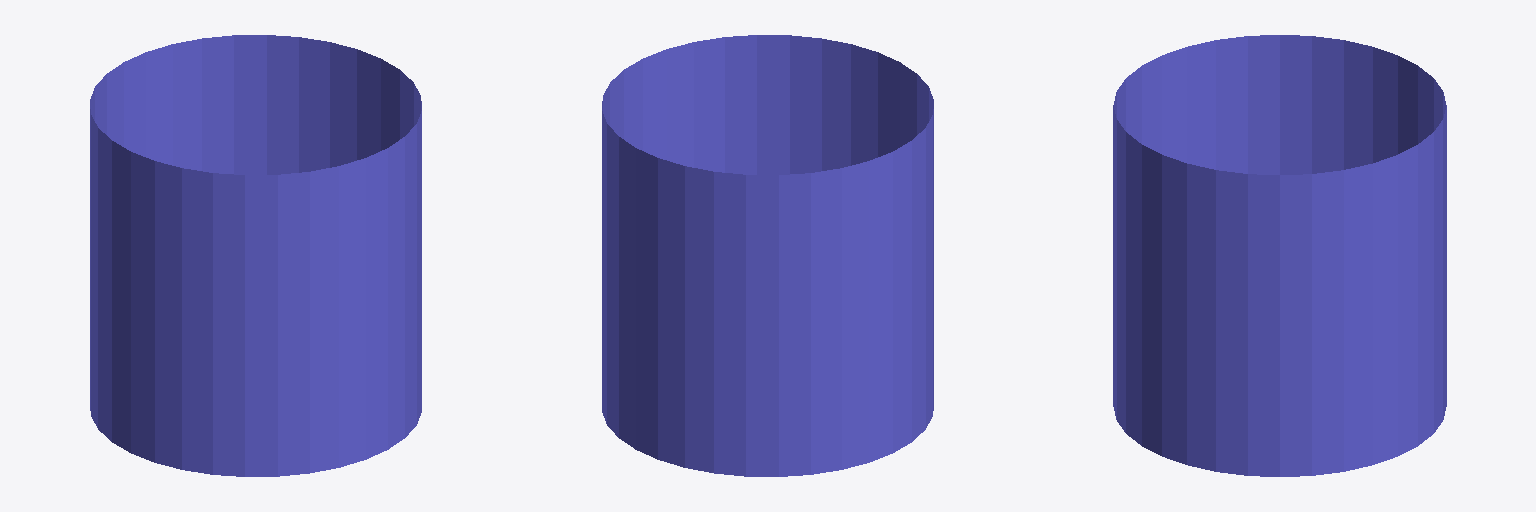
File: edge.obj
3 views of the same model, side by side, from view 1: azimuth 30°, elevation 25°; view 2: azimuth 150°, elevation 25°; view 3: azimuth 270°, elevation 25° (orthographic).
Visible parts, largest first — view 1: edge; view 2: edge; view 3: edge.
Boxes of the visible parts, box(x1,y1,x2,y2) form: edge: box(90, 35, 421, 476); edge: box(602, 35, 933, 476); edge: box(1113, 35, 1446, 476).
Bounding box in the file's own units: 2 × 2 × 2.